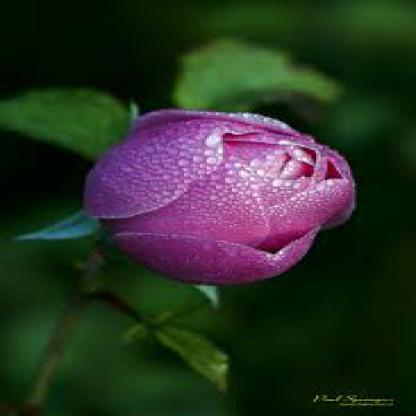Rose-Mawar: (80, 104, 358, 294)
